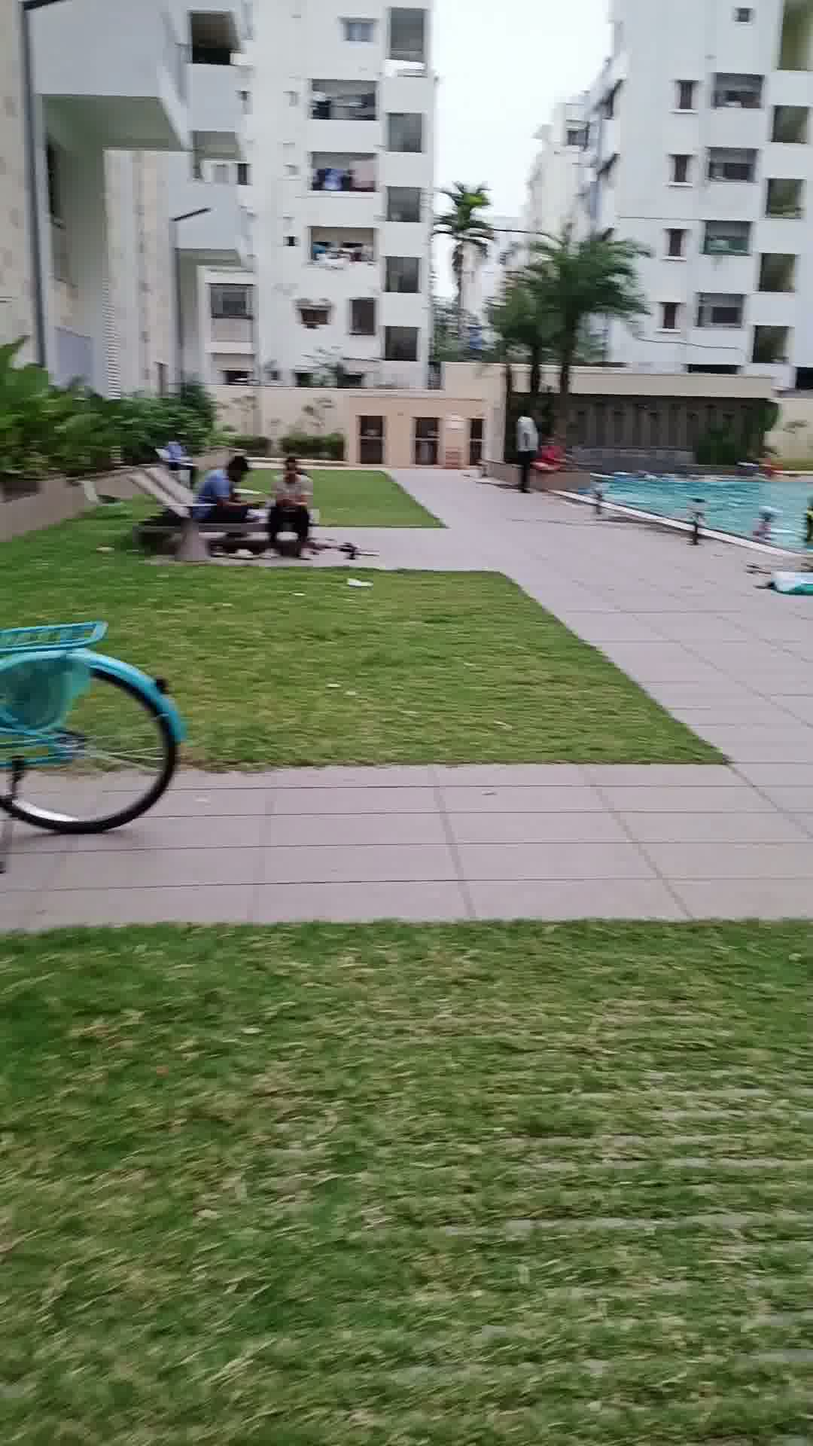bicycle: (3, 589, 193, 931)
person: (273, 450, 321, 566), (198, 451, 252, 554)
tree: (527, 228, 622, 451)
